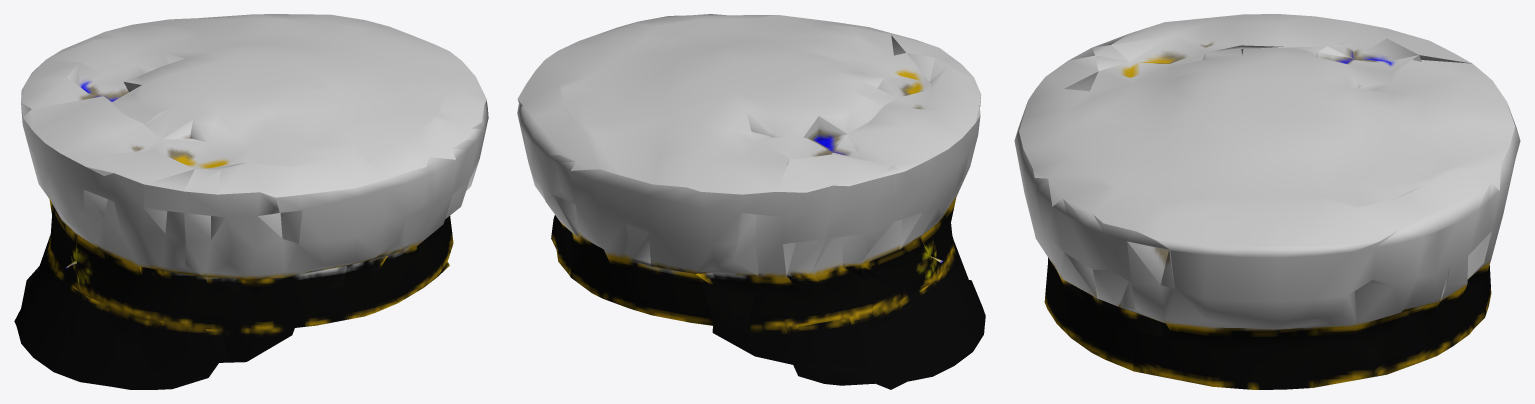
File: wear_sailor.glb
3 views of the same model, side by side, from view 1: azimuth 30°, elevation 25°; view 2: azimuth 150°, elevation 25°; view 3: azimuth 270°, elevation 25° (orthographic). The views are drawn at different scales.
Visible parts, largest first — view 1: mesh; view 2: mesh; view 3: mesh.
Part boxes in pixels (bbox=[...]): mesh: bbox=[14, 14, 488, 389]; mesh: bbox=[517, 14, 985, 389]; mesh: bbox=[1014, 14, 1520, 389].
Size of the model in its own units: 0.2206 by 0.12 by 0.2058.
Materials: 1 (1 with a texture image).
